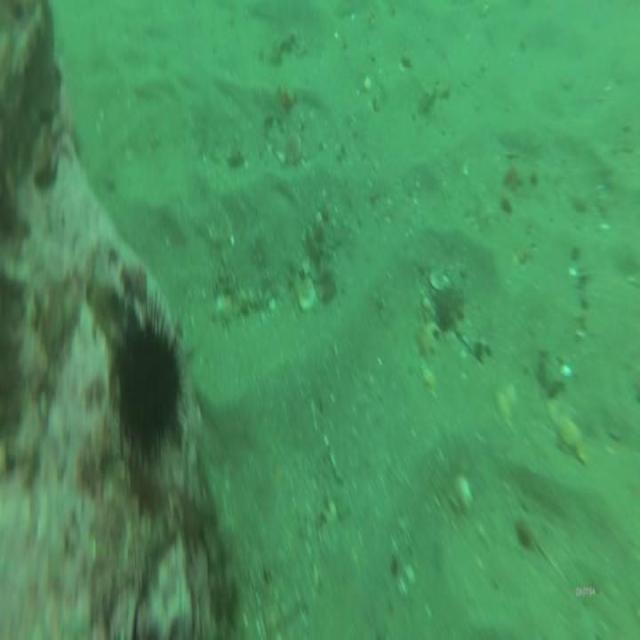echinus: (109, 312, 183, 472)
